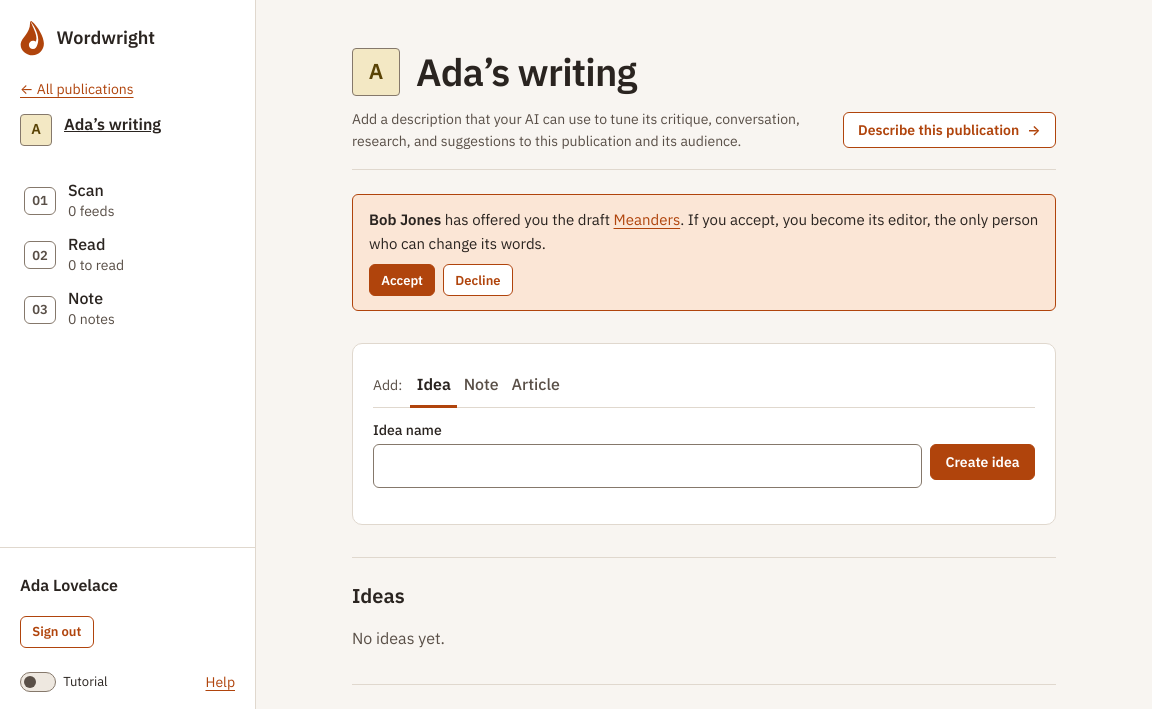
Scenario: what is waiting, on the publication’s landing page (#159) › says what went wrong if an answer is refused
Click the button with aria-label "Accept Meanders". click: {"x": 402, "y": 280}
box: left=369, top=264, right=435, bottom=296
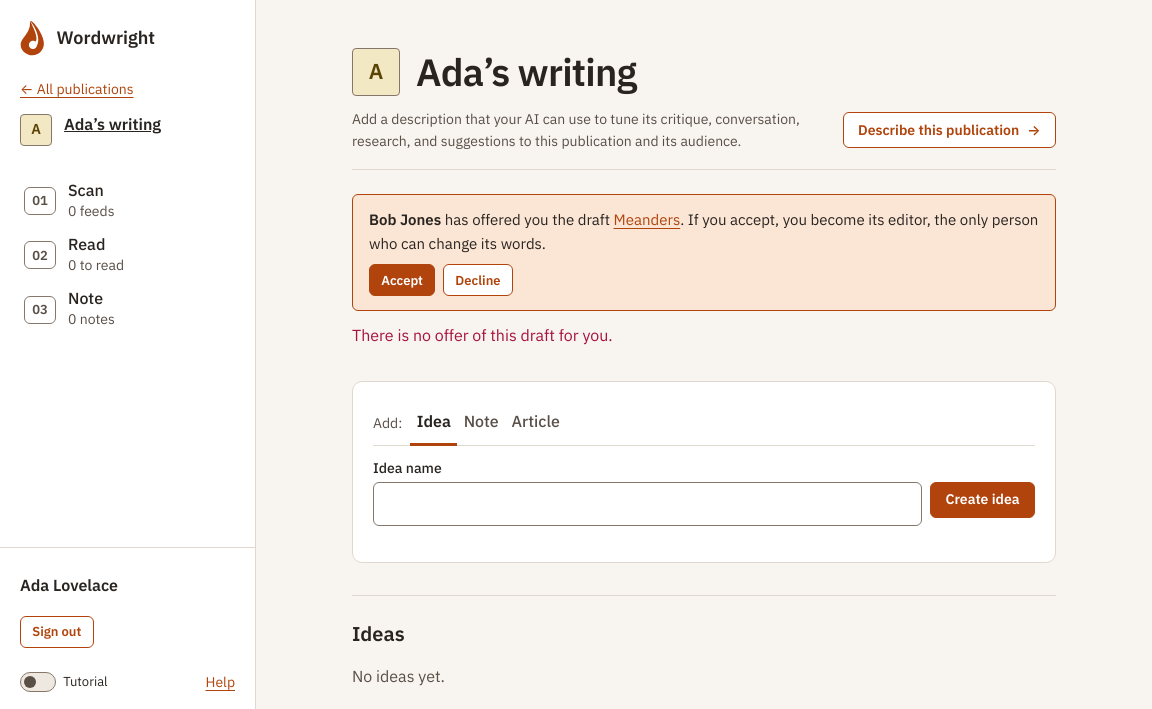
Check: the message shows "no offer of this draft", box left=352, top=325, right=613, bottom=345
